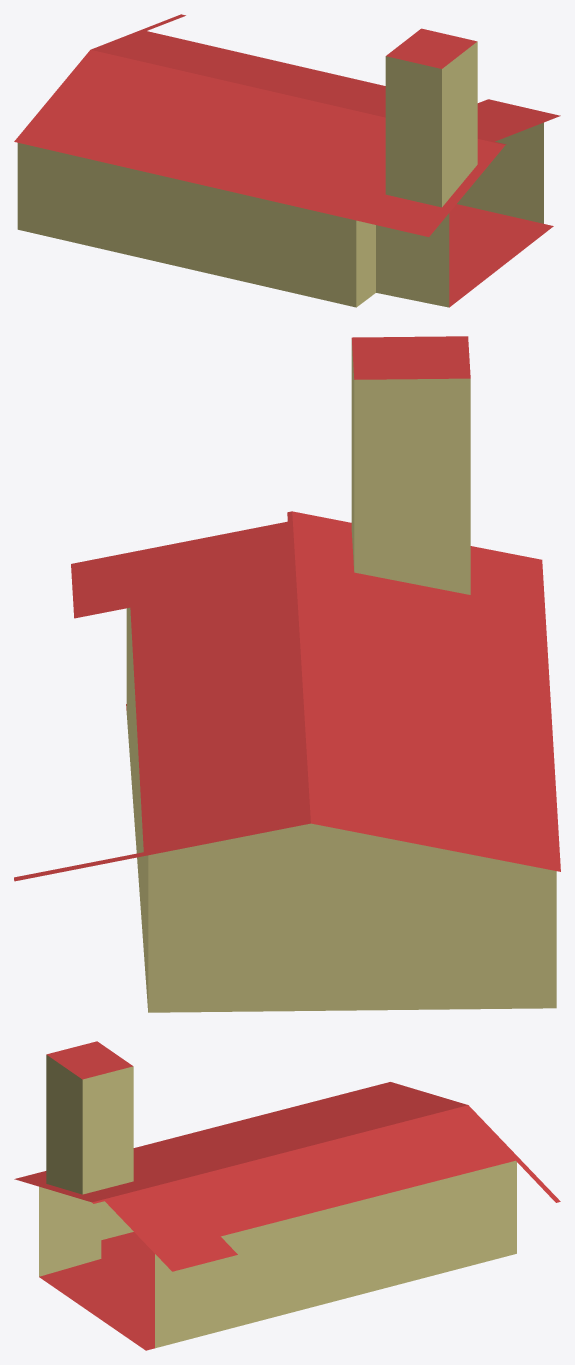
3 renders of one model, top to bottom at view 1: azimuth 30°, elevation 25°; view 2: azimuth 150°, elevation 25°; view 3: azimuth 270°, elevation 25°, orthographic. The views are drawn at different scales.
Size of the model in its own units: 45.69 by 53.87 by 24.01.
